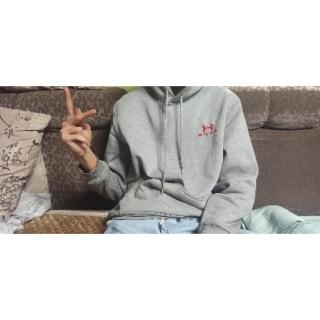DHAA: (49, 86, 102, 162)
